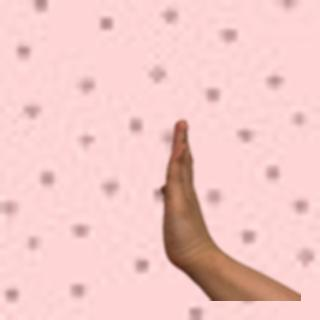RIGHT: (154, 113, 216, 275)
